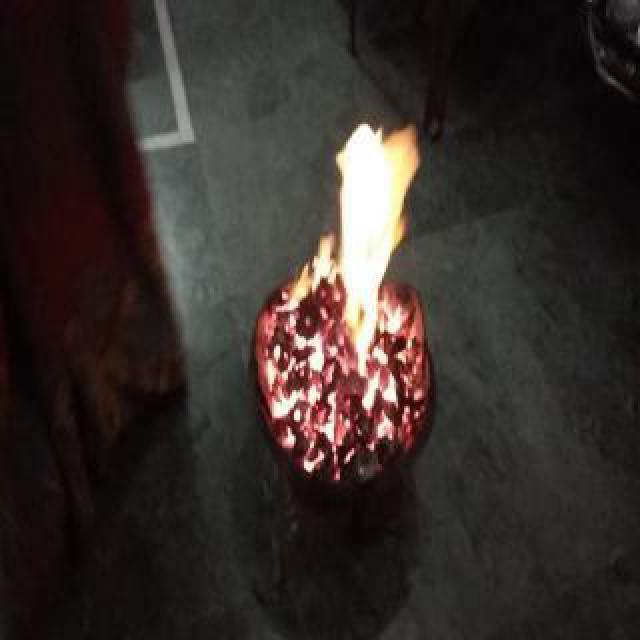Fire: (258, 88, 422, 476)
